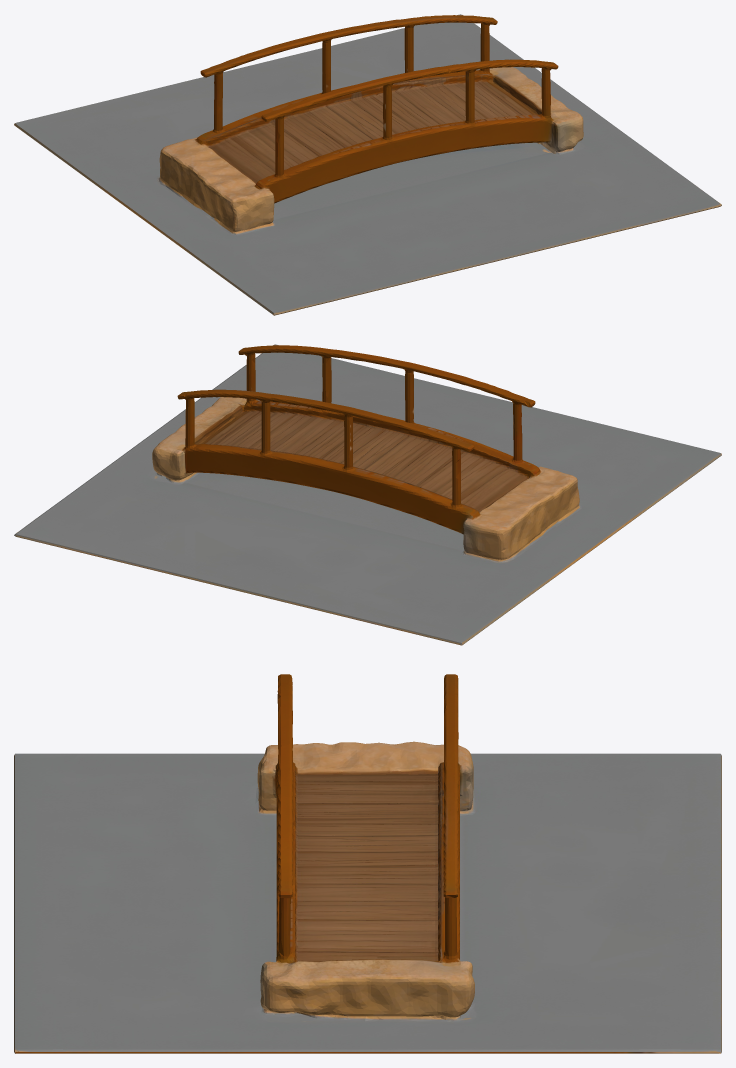
Rendered from room-08-boardwalk.glb.
The picture shows the model from 3 angles, top to bottom: view 1: azimuth 30°, elevation 25°; view 2: azimuth 150°, elevation 25°; view 3: azimuth 270°, elevation 25°; orthographic projection. The views are drawn at different scales.
Visible parts, largest first — view 1: textured_mesh.obj; view 2: textured_mesh.obj; view 3: textured_mesh.obj.
Part boxes in pixels (x1,y1,x2,y2): textured_mesh.obj: (14,14,721,315); textured_mesh.obj: (14,344,721,645); textured_mesh.obj: (14,674,721,1053).
Size of the model in its own units: 4.45 by 1.1 by 4.47.
1 material, 1 textured.
